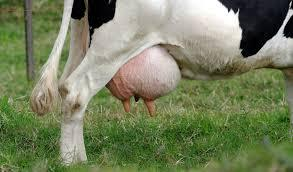cow: (34, 0, 293, 161)
